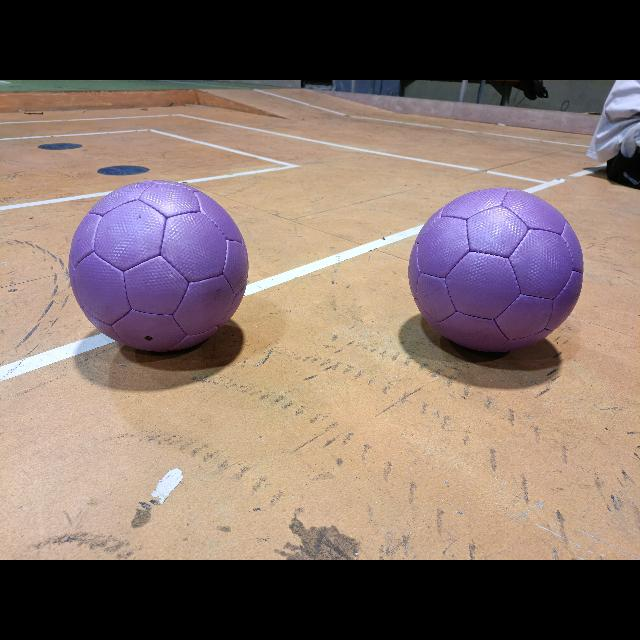P: (69, 181, 247, 351), (410, 188, 582, 352)
